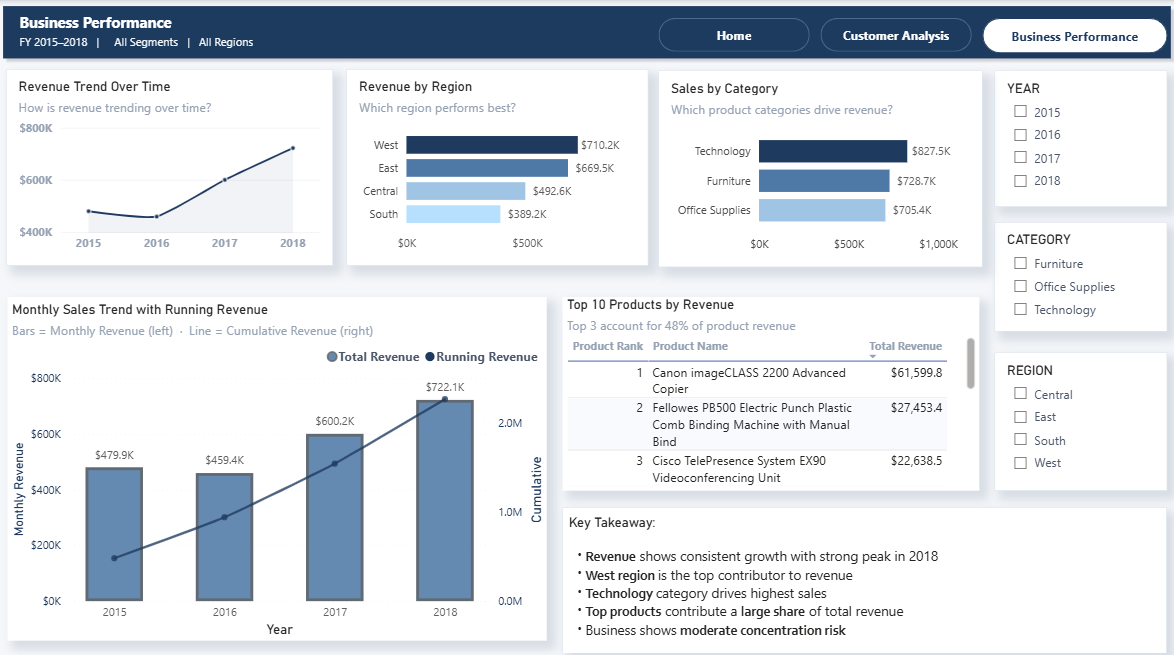

The dashboard page shown, as its layout file describes it:
{"tool":"powerbi","page":{"name":"Business Performance","canvas":[1280,720],"ordinal":2},"visuals":[{"type":"shape","box":[0,0,1280.6,70],"z":0},{"type":"textbox","box":[20,8,299.8,66.3],"z":1000},{"type":"actionButton","box":[892.8,19.9,164,36.4],"z":2000},{"type":"actionButton","box":[717.3,19.9,164,36.4],"z":3000},{"type":"actionButton","box":[1068.4,19.9,200.4,38.1],"z":4000},{"type":"lineChart","title":"Revenue Trend Over Time","fields":{"Category":["Date.Date.Variation.Date Hierarchy.Year","Date.Date.Variation.Date Hierarchy.Quarter","Date.Date.Variation.Date Hierarchy.Month","Date.Date.Variation.Date Hierarchy.Day"],"Y":["Orders.Total Revenue"]},"box":[9.8,74.8,354.7,213.2],"z":5000},{"type":"clusteredBarChart","title":"Revenue by Region","fields":{"Category":["Location.Region"],"Y":["Orders.Total Revenue"]},"box":[379.1,74.8,327.1,213.2],"z":6000},{"type":"lineClusteredColumnComboChart","title":"Monthly Sales Trend with Running Revenue","fields":{"Category":["Date.Date.Variation.Date Hierarchy.Year","Date.Date.Variation.Date Hierarchy.Quarter","Date.Date.Variation.Date Hierarchy.Month"],"Y":["Orders.Total Revenue"],"Y2":["Orders.Running Revenue"]},"box":[11,322.8,584.8,372.4],"z":7000},{"type":"slicer","title":"YEAR","fields":{"Values":["Date.Year"]},"box":[1081.7,76.4,187.1,148],"z":8000},{"type":"slicer","title":"CATEGORY","fields":{"Values":["Product.Category"]},"box":[1081.7,240.7,187.1,118.7],"z":9000},{"type":"slicer","title":"REGION","fields":{"Values":["Location.Region"]},"box":[1082,382.4,187.1,149.7],"z":10000},{"type":"clusteredBarChart","title":"Sales by Category","fields":{"Y":["Orders.Total Revenue"],"Category":["Product.Category"]},"box":[717.6,76.5,351.5,213.2],"z":11000},{"type":"tableEx","title":"Top 10 Products by Revenue","fields":{"Values":["Product.Product Rank","Product.Product Name","Orders.Total Revenue"]},"box":[613.2,322.1,452.2,209.8],"z":12000},{"type":"textbox","box":[613.2,549.8,655.5,159.4],"z":13000}]}

Visuals, with their boxes in screenshot pixels (x1, y1, x2, y2), scaled from the page's 1280x720 canvas onto the 1174x655 screenshot:
shape: detection(0, 0, 1173, 64)
textbox: detection(18, 7, 293, 68)
actionButton: detection(819, 18, 969, 51)
actionButton: detection(658, 18, 808, 51)
actionButton: detection(980, 18, 1164, 53)
"Revenue Trend Over Time" lineChart: detection(9, 68, 334, 262)
"Revenue by Region" clusteredBarChart: detection(348, 68, 648, 262)
"Monthly Sales Trend with Running Revenue" lineClusteredColumnComboChart: detection(10, 294, 546, 632)
"YEAR" slicer: detection(992, 70, 1164, 204)
"CATEGORY" slicer: detection(992, 219, 1164, 327)
"REGION" slicer: detection(992, 348, 1164, 484)
"Sales by Category" clusteredBarChart: detection(658, 70, 981, 264)
"Top 10 Products by Revenue" tableEx: detection(562, 293, 977, 484)
textbox: detection(562, 500, 1164, 645)
